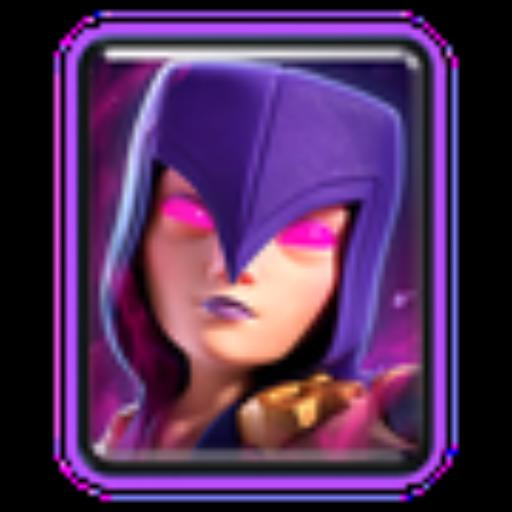witch: (94, 62, 412, 456)
